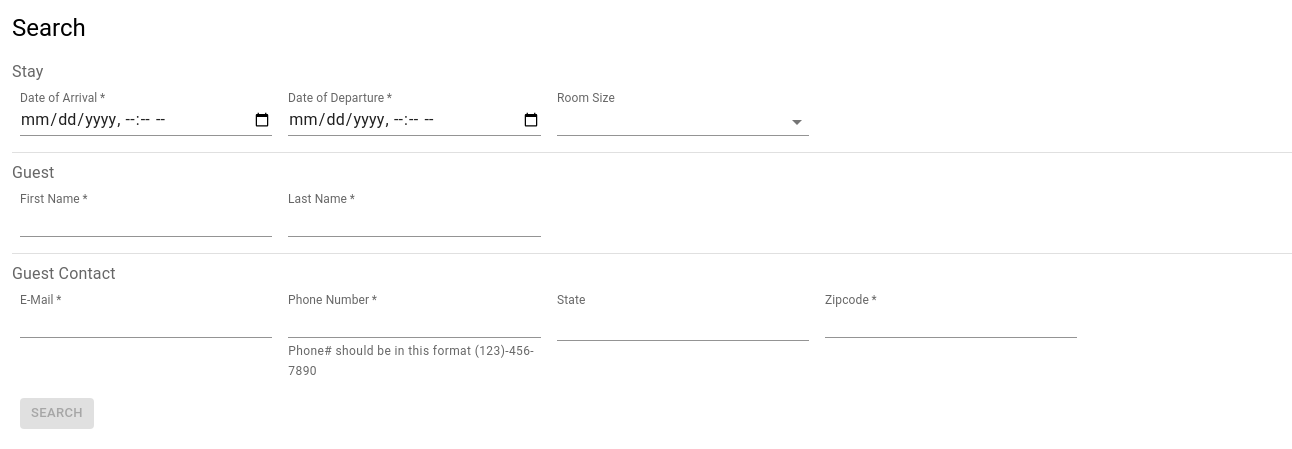
Test: Reservation page › should validate email
Type "test" into the field with test id "email" at x=146, y=324, box [20,309,272,338]
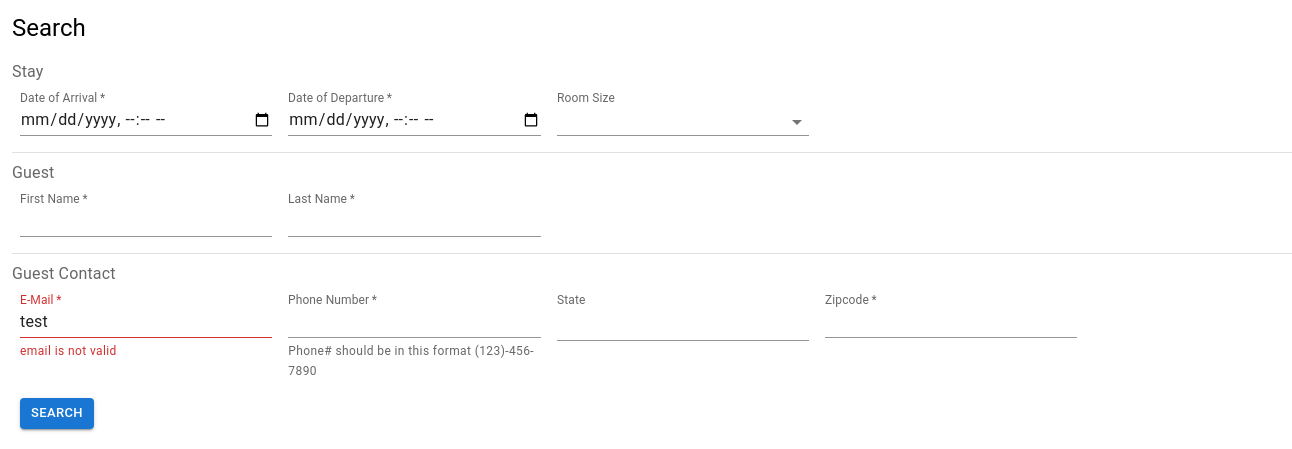
expect the text "email is not valid" is shown: met, box [20,344,117,358]
